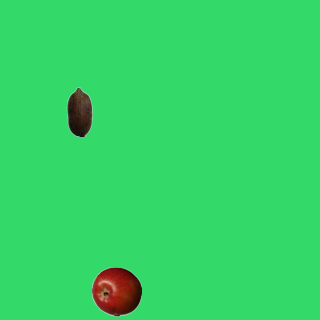Apple Braeburn: (91, 266, 141, 316)
Nut Pecan: (54, 86, 104, 136)
